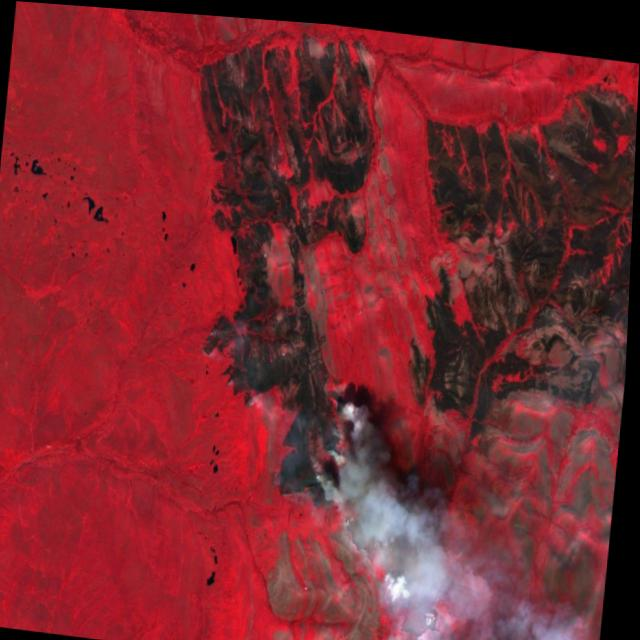fire: (310, 372, 385, 525)
